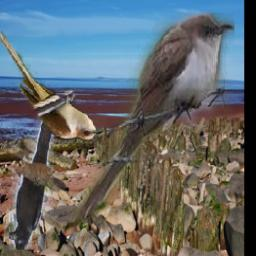Crow: (9, 114, 54, 250)
Cuckoo: (72, 14, 235, 224), (0, 32, 104, 143)
